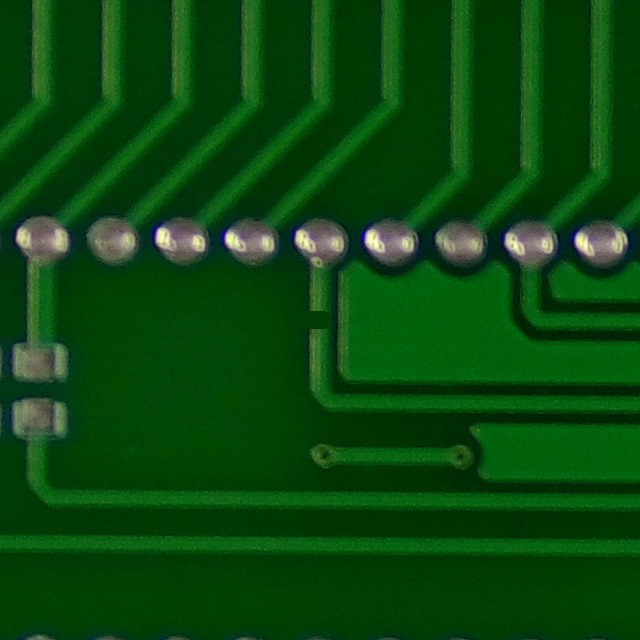open_circuit: (303, 300, 338, 341)
